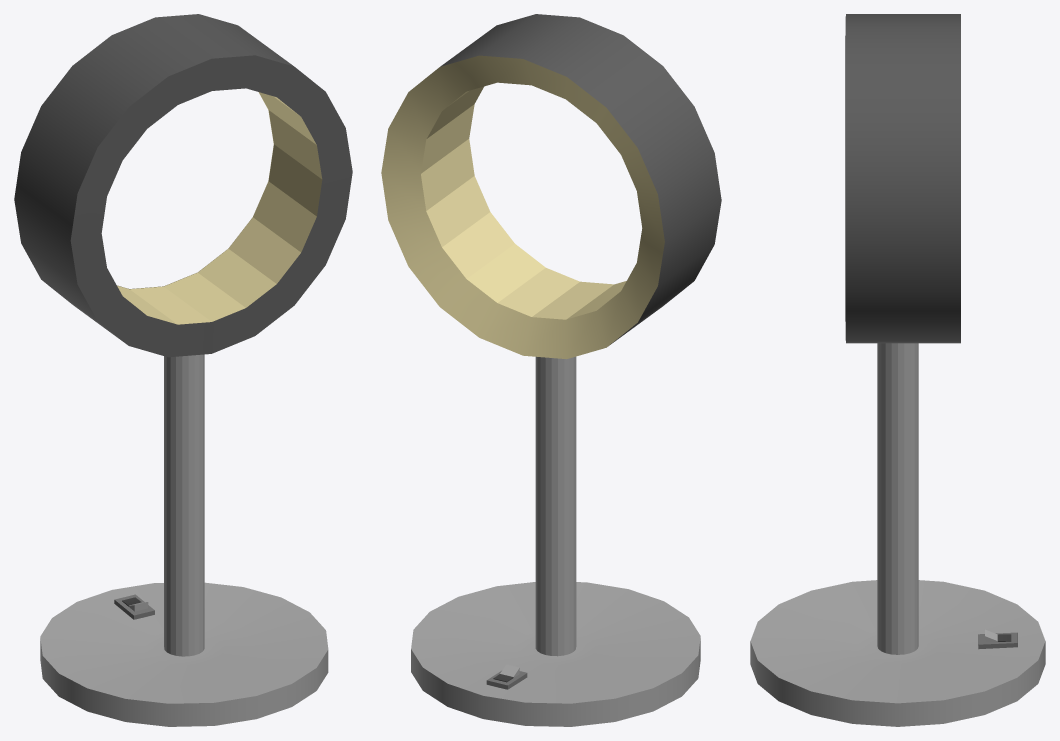
Rendered from SM_Aro_Luz_Foco.fbx.
3 renders of one model, left to right at view 1: azimuth 30°, elevation 25°; view 2: azimuth 150°, elevation 25°; view 3: azimuth 270°, elevation 25°, orthographic.
Visible parts, largest first — view 1: pCube2; view 2: pCube2; view 3: pCube2.
Part boxes in pixels (x1=…): pCube2: x1=14, y1=14, x2=352, y2=726; pCube2: x1=381, y1=14, x2=721, y2=726; pCube2: x1=750, y1=14, x2=1045, y2=726.
Size of the model in its own units: 111 by 235 by 98.5.
